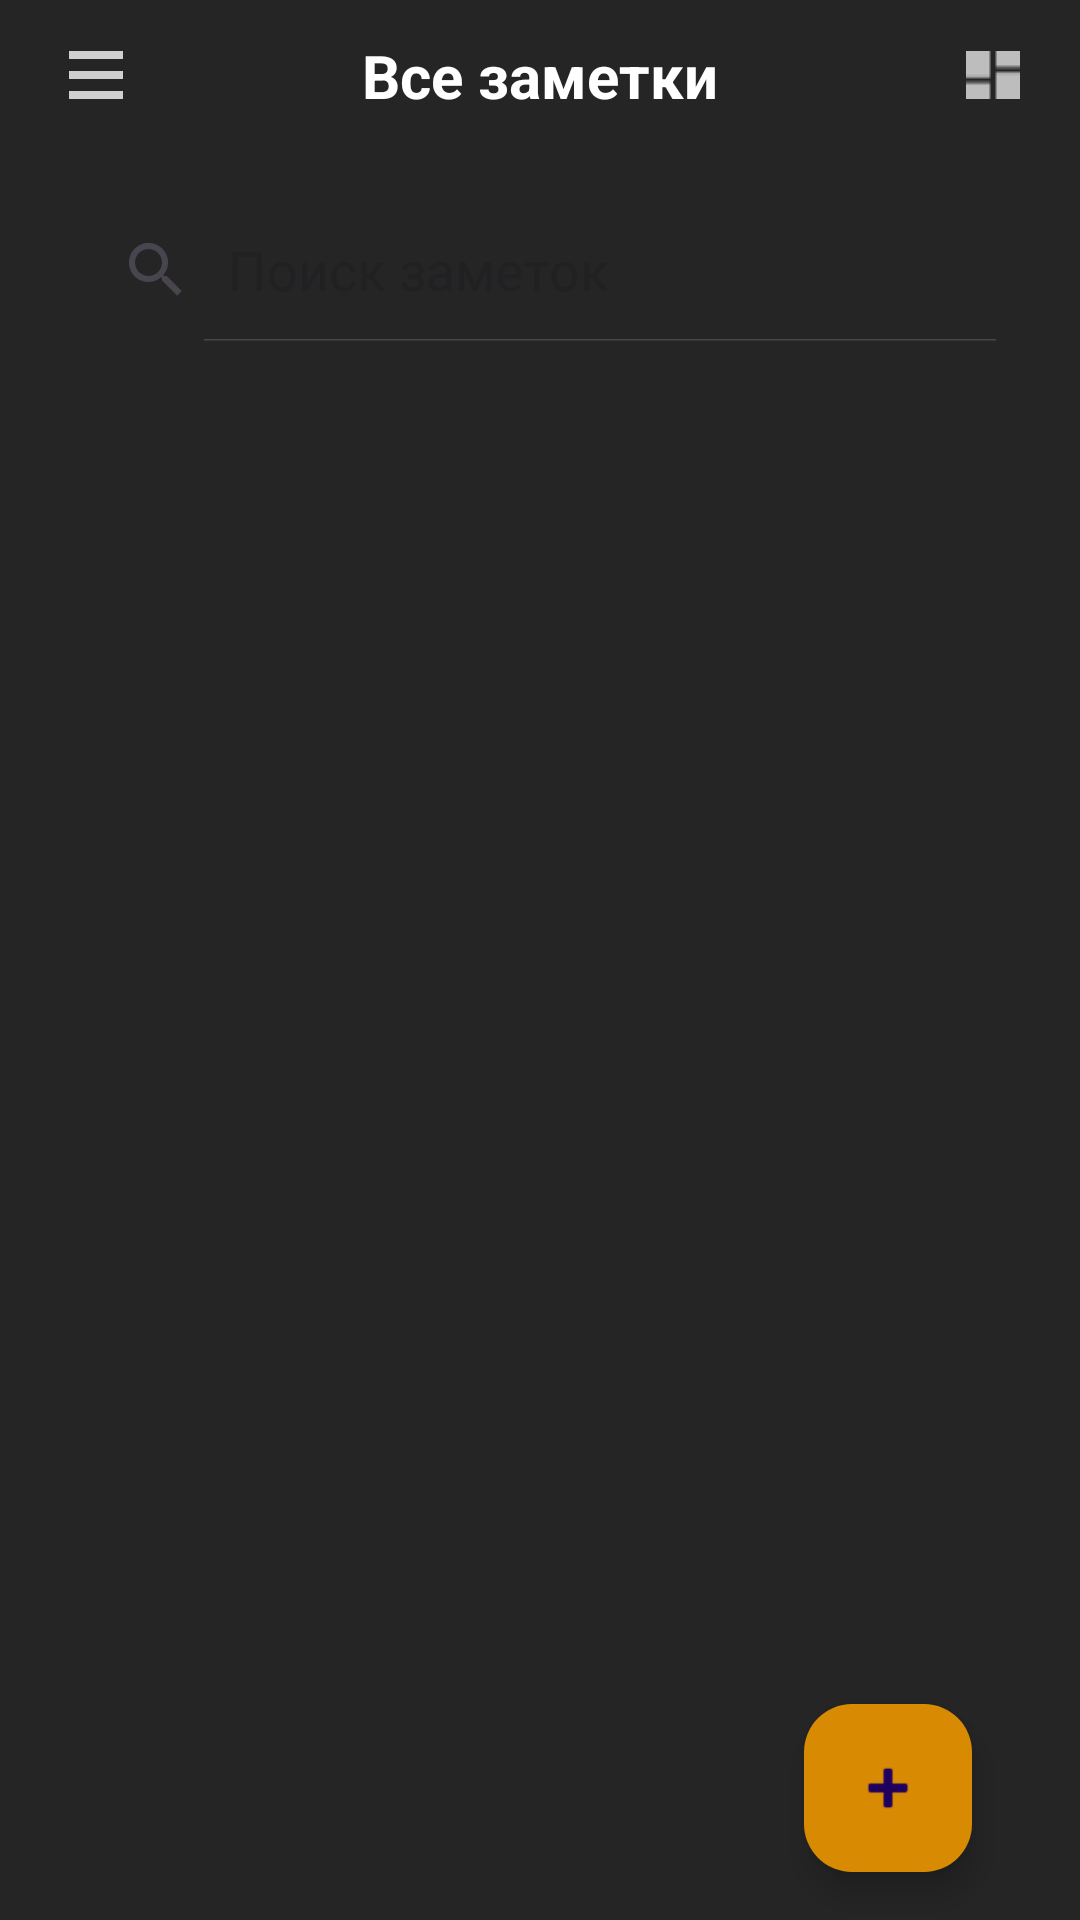

Icon click points for this 1080px x 1920px phone screenshot, format (x=x, y=y):
add: (x=888, y=1788)
menu: (x=96, y=75)
